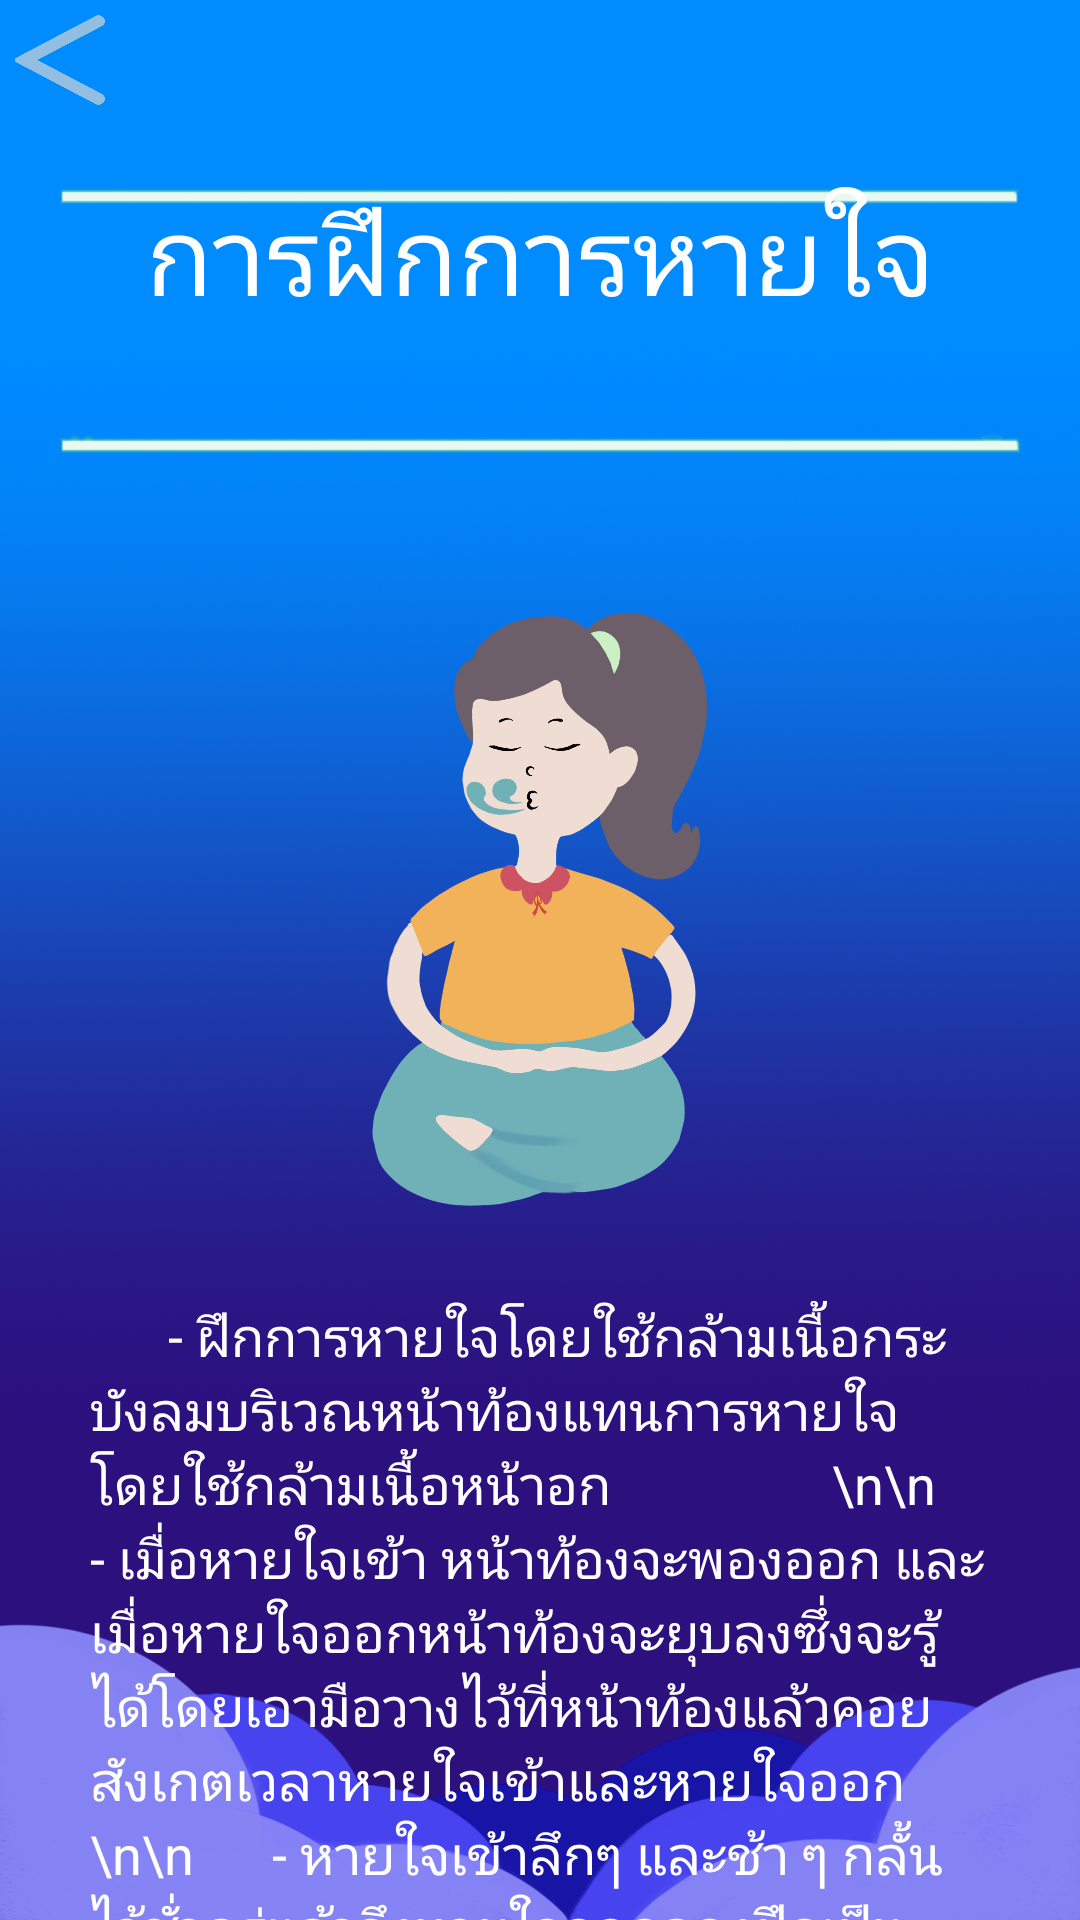

Screen size 1080w x 1920h. Icon name, then its center in pixels as point (x, y):
backbut: point (60, 60)
